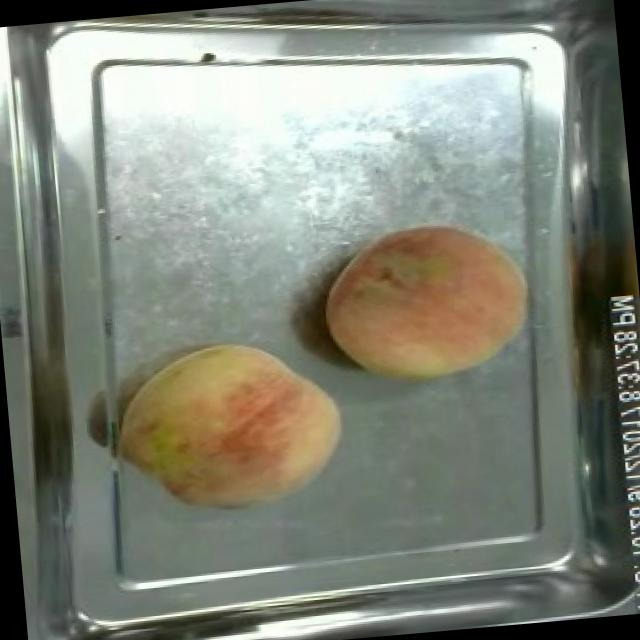Fruit: (108, 325, 351, 524), (309, 206, 542, 400)
